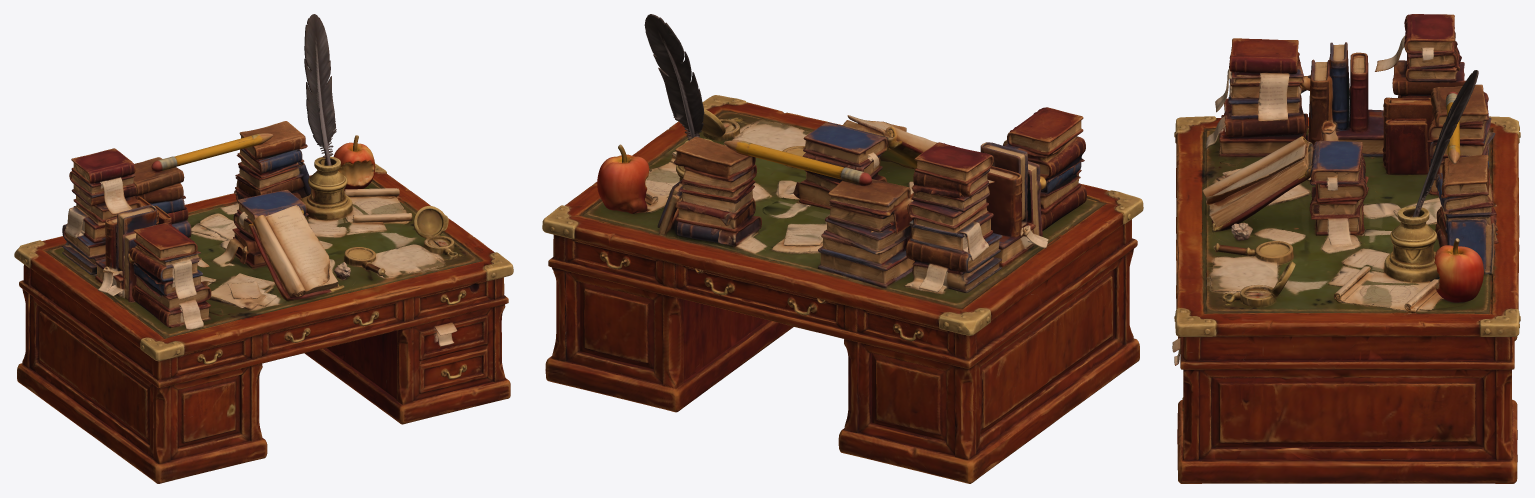
Rendered from study_desk.glb.
3 renders of one model, left to right at view 1: azimuth 30°, elevation 25°; view 2: azimuth 150°, elevation 25°; view 3: azimuth 270°, elevation 25°, orthographic. The views are drawn at different scales.
Bounding box in the file's own units: 1.9 × 1.57 × 1.33.
Materials: 1 (1 with a texture image).
